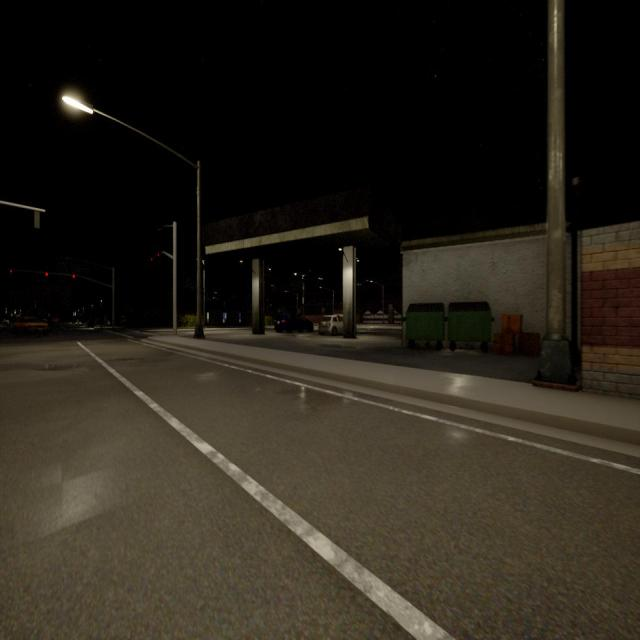Vehicle: (275, 313, 314, 333), (13, 317, 47, 335), (319, 315, 343, 335)
traffic_light: (34, 210, 39, 228), (45, 272, 48, 276), (73, 274, 75, 278), (10, 269, 12, 272), (150, 258, 152, 261), (158, 253, 160, 256)
